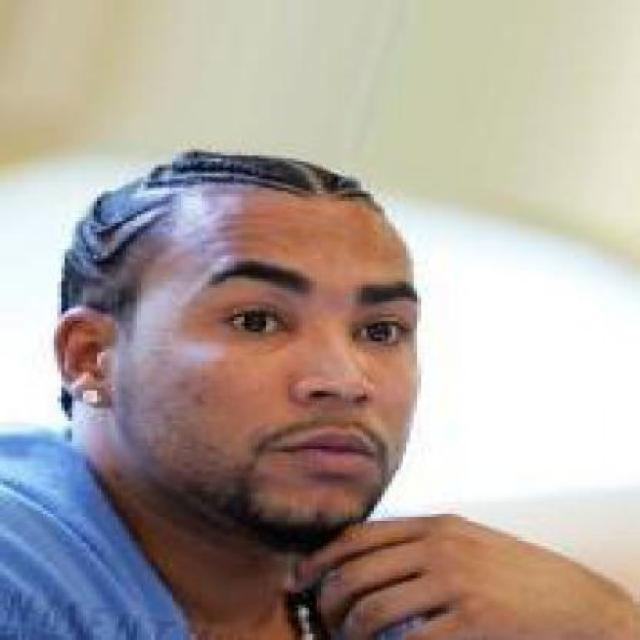closed-mouth: (289, 428, 374, 470)
